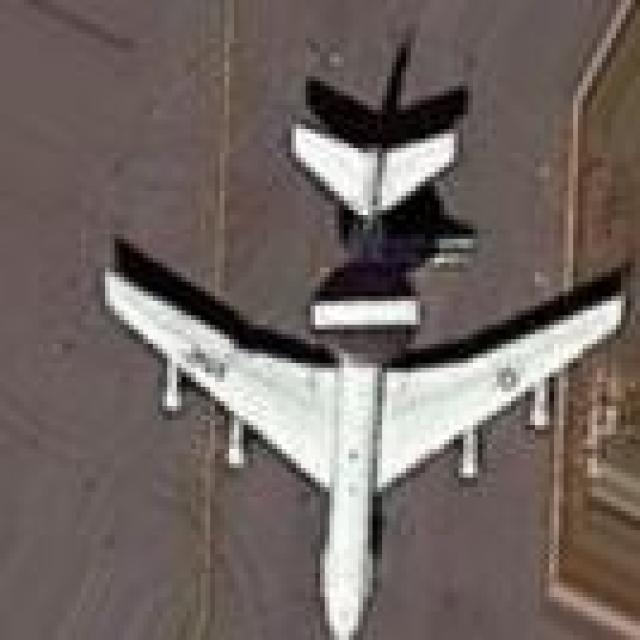E-3_TopDown: (100, 36, 635, 640)
